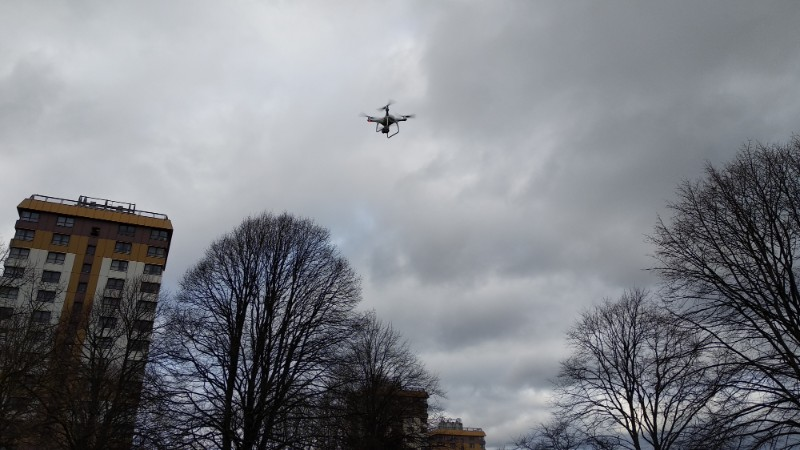drone: (360, 102, 415, 139)
